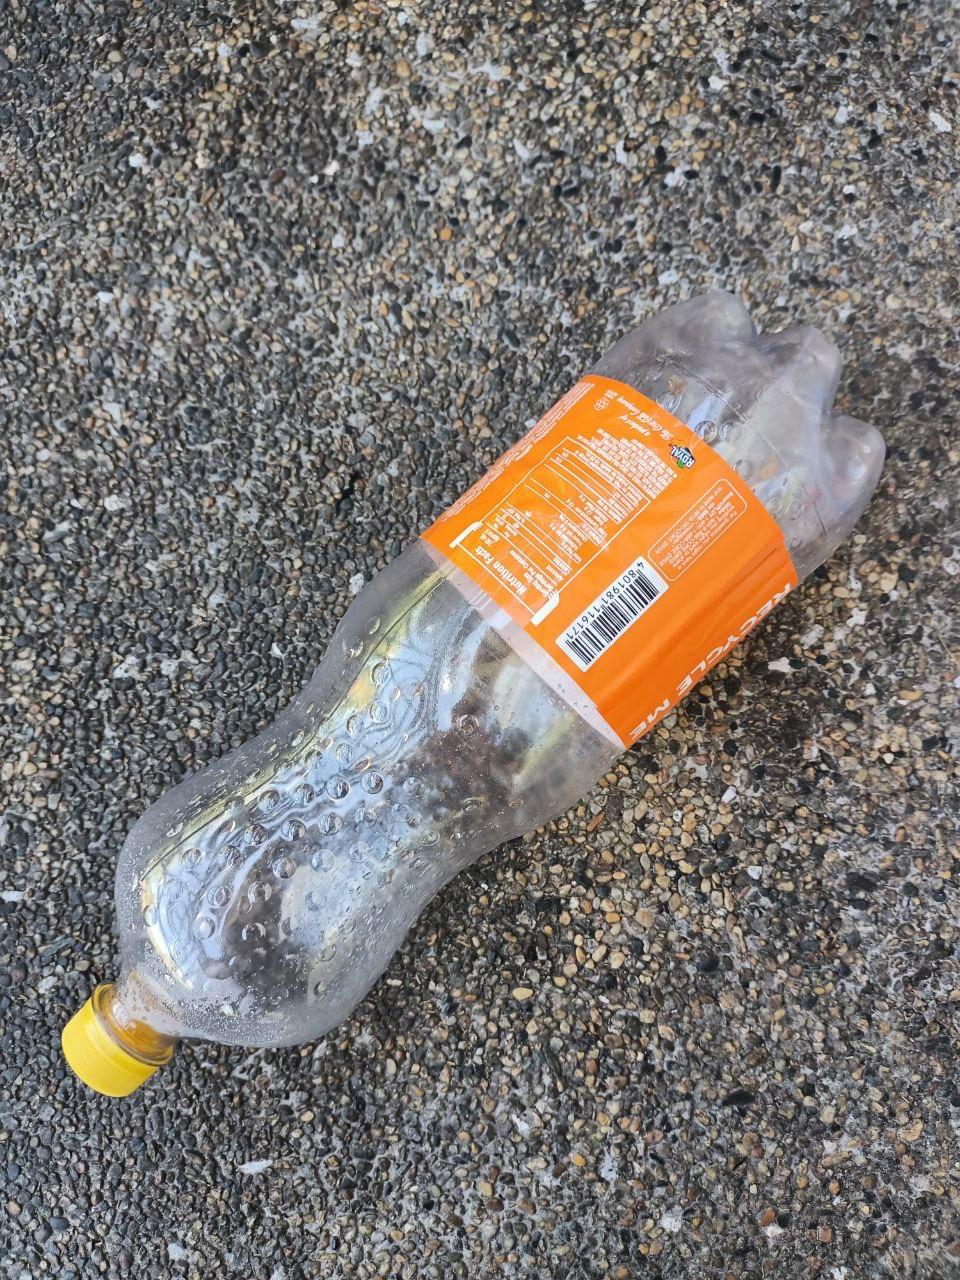plastic: (49, 278, 898, 1137)
